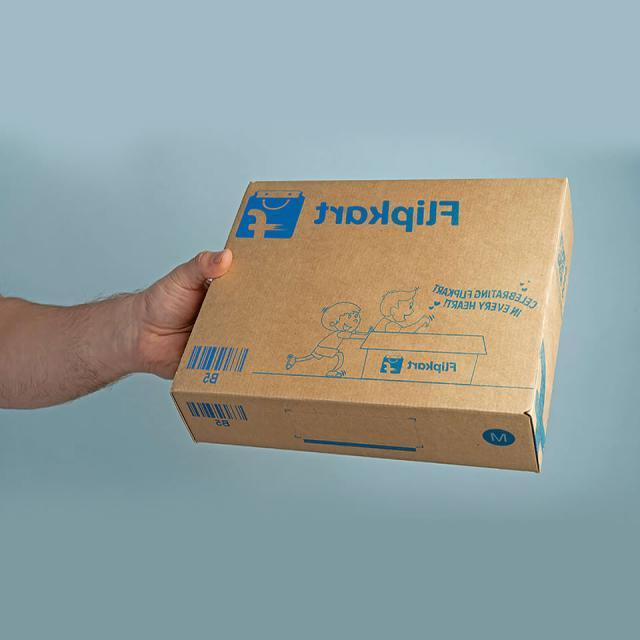cardboxes: (170, 178, 576, 475)
